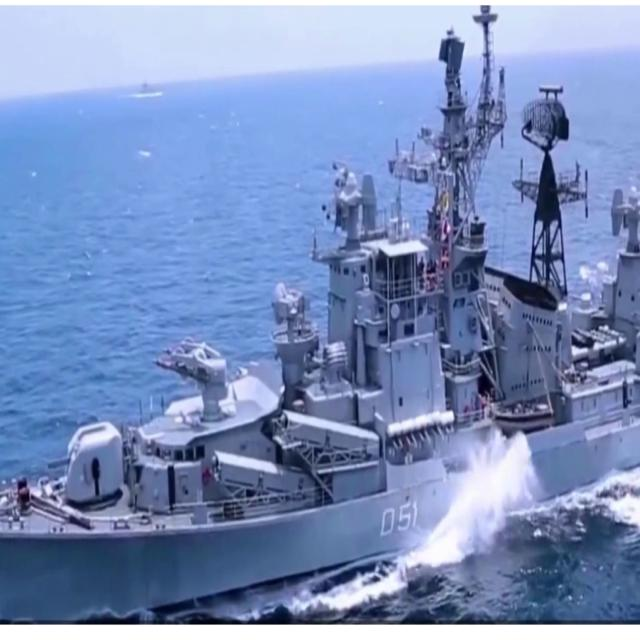OCR: (374, 496, 420, 546)
